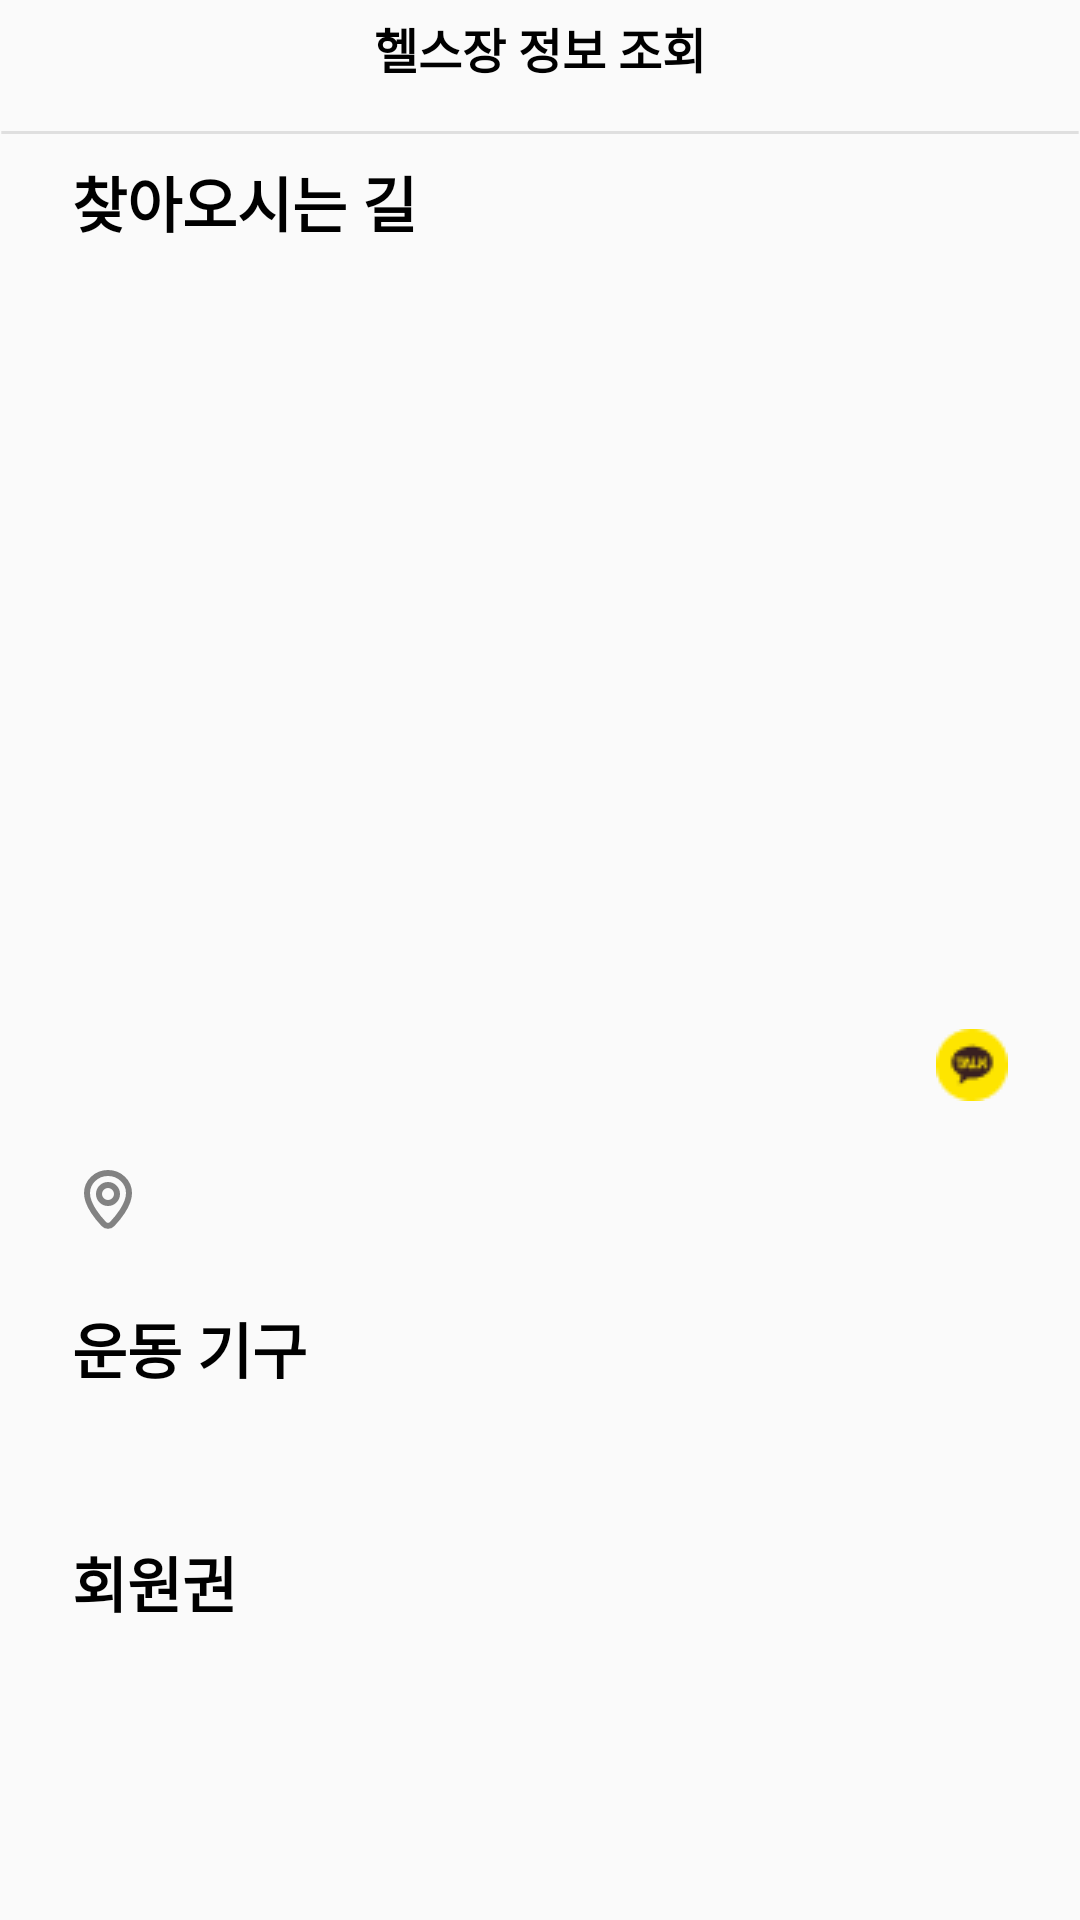

Where to tap for icons on this 1080 x 1920 app screen, as point (x, y):
home location: point (108, 1199)
